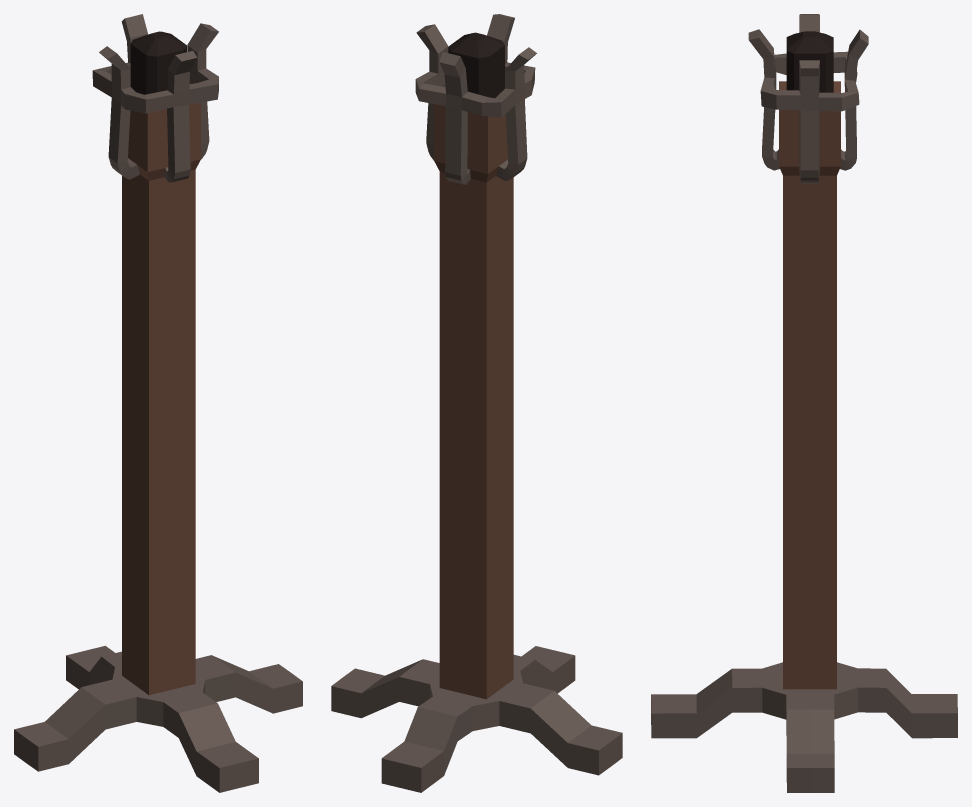
The model's file is StandingTorch.fbx.
3 renders of one model, left to right at view 1: azimuth 30°, elevation 25°; view 2: azimuth 150°, elevation 25°; view 3: azimuth 270°, elevation 25°, orthographic.
Parts seen in each view (by area): view 1: runko; view 2: runko; view 3: runko.
Boxes of the visible parts, x1,y1,x2,y2 form: runko: [14, 14, 302, 792]; runko: [331, 14, 622, 792]; runko: [651, 14, 957, 792].
Size of the model in its own units: 30.03 by 75.11 by 30.06.
